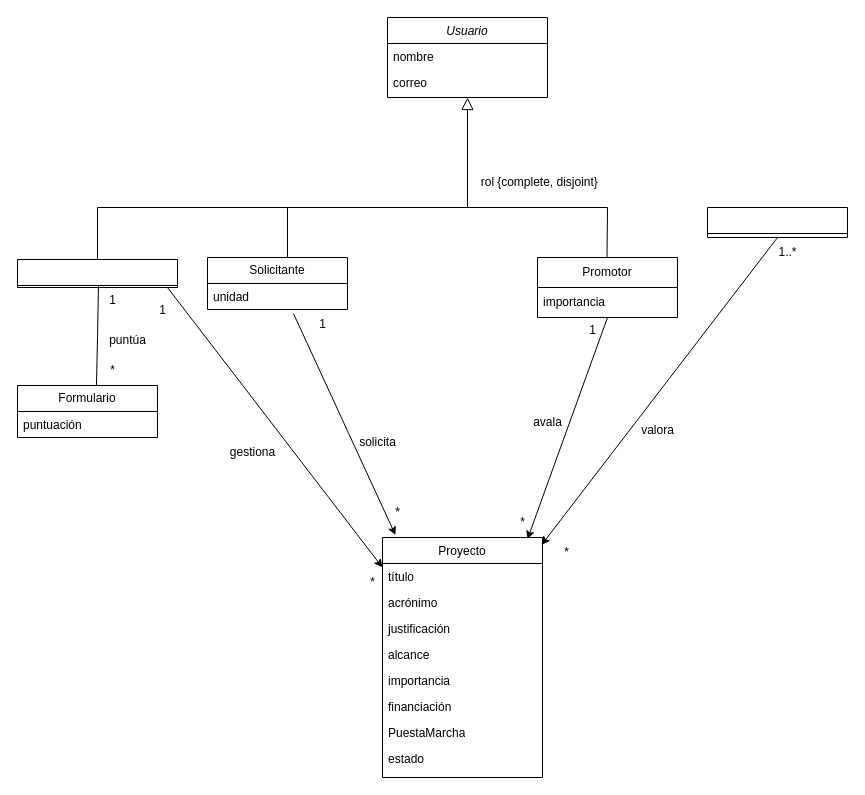
Some shapes in this 865 by 795 pixel diagram are drawn without their labels. The shapes that lost their labels are listed below. From the top down, each one's centre as x and y in pixels, then its label:
At pixel 777 222: "OTP".
At pixel 97 273: "CIO".
